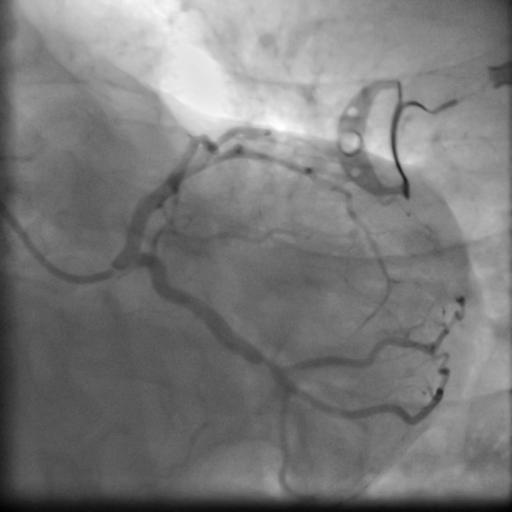Stenosis: (258, 353, 280, 375)
